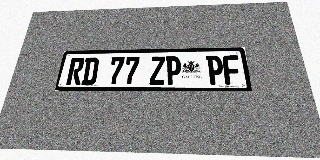7: (107, 57, 125, 85), (123, 57, 140, 85)
D: (81, 57, 100, 85)
F: (222, 55, 242, 85)
P: (206, 55, 225, 85), (166, 56, 181, 85)
R: (66, 58, 85, 85)
Z: (149, 56, 165, 85)
